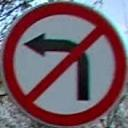NoVirarEsquerda: (3, 2, 128, 126)
